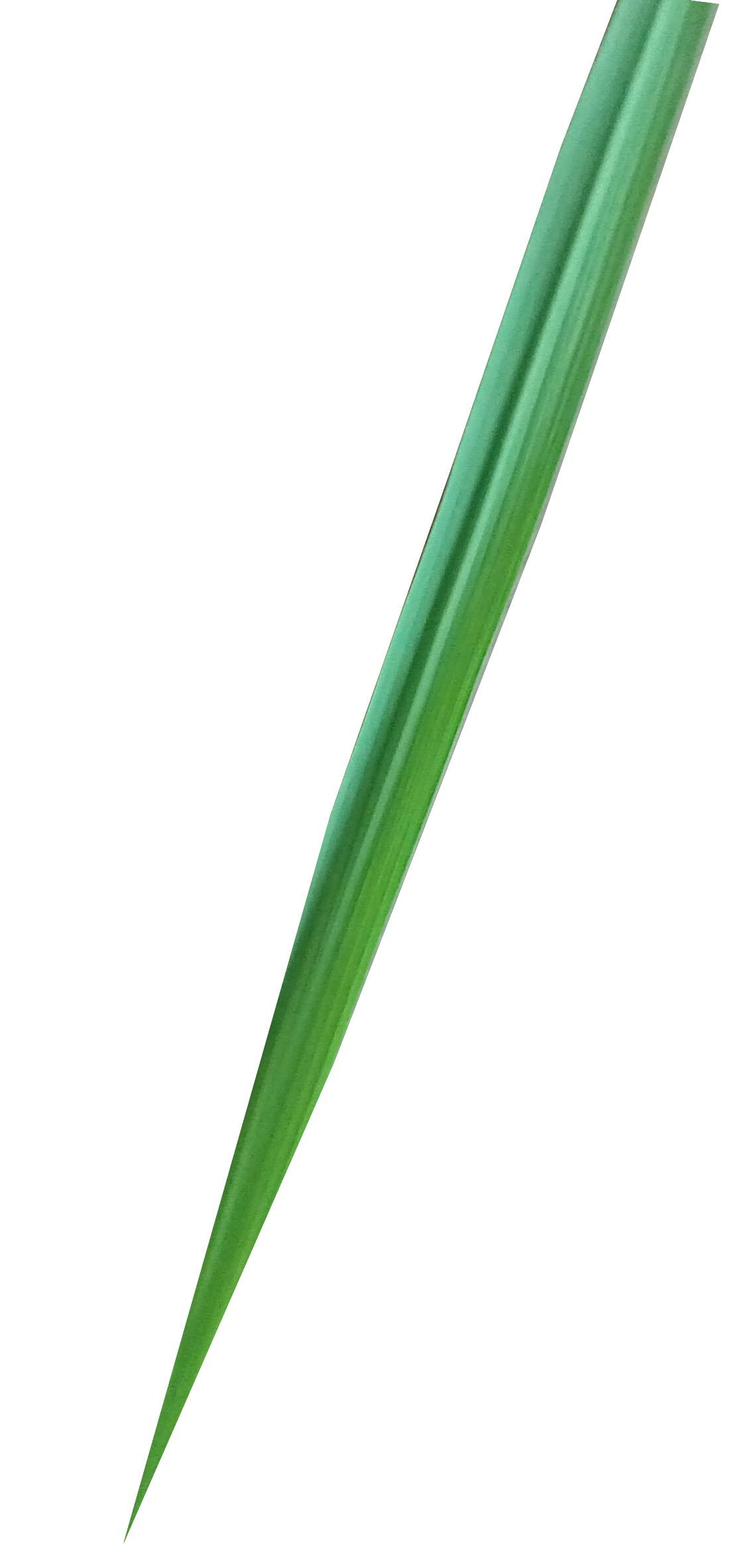Healthy: (124, 0, 723, 1552)
